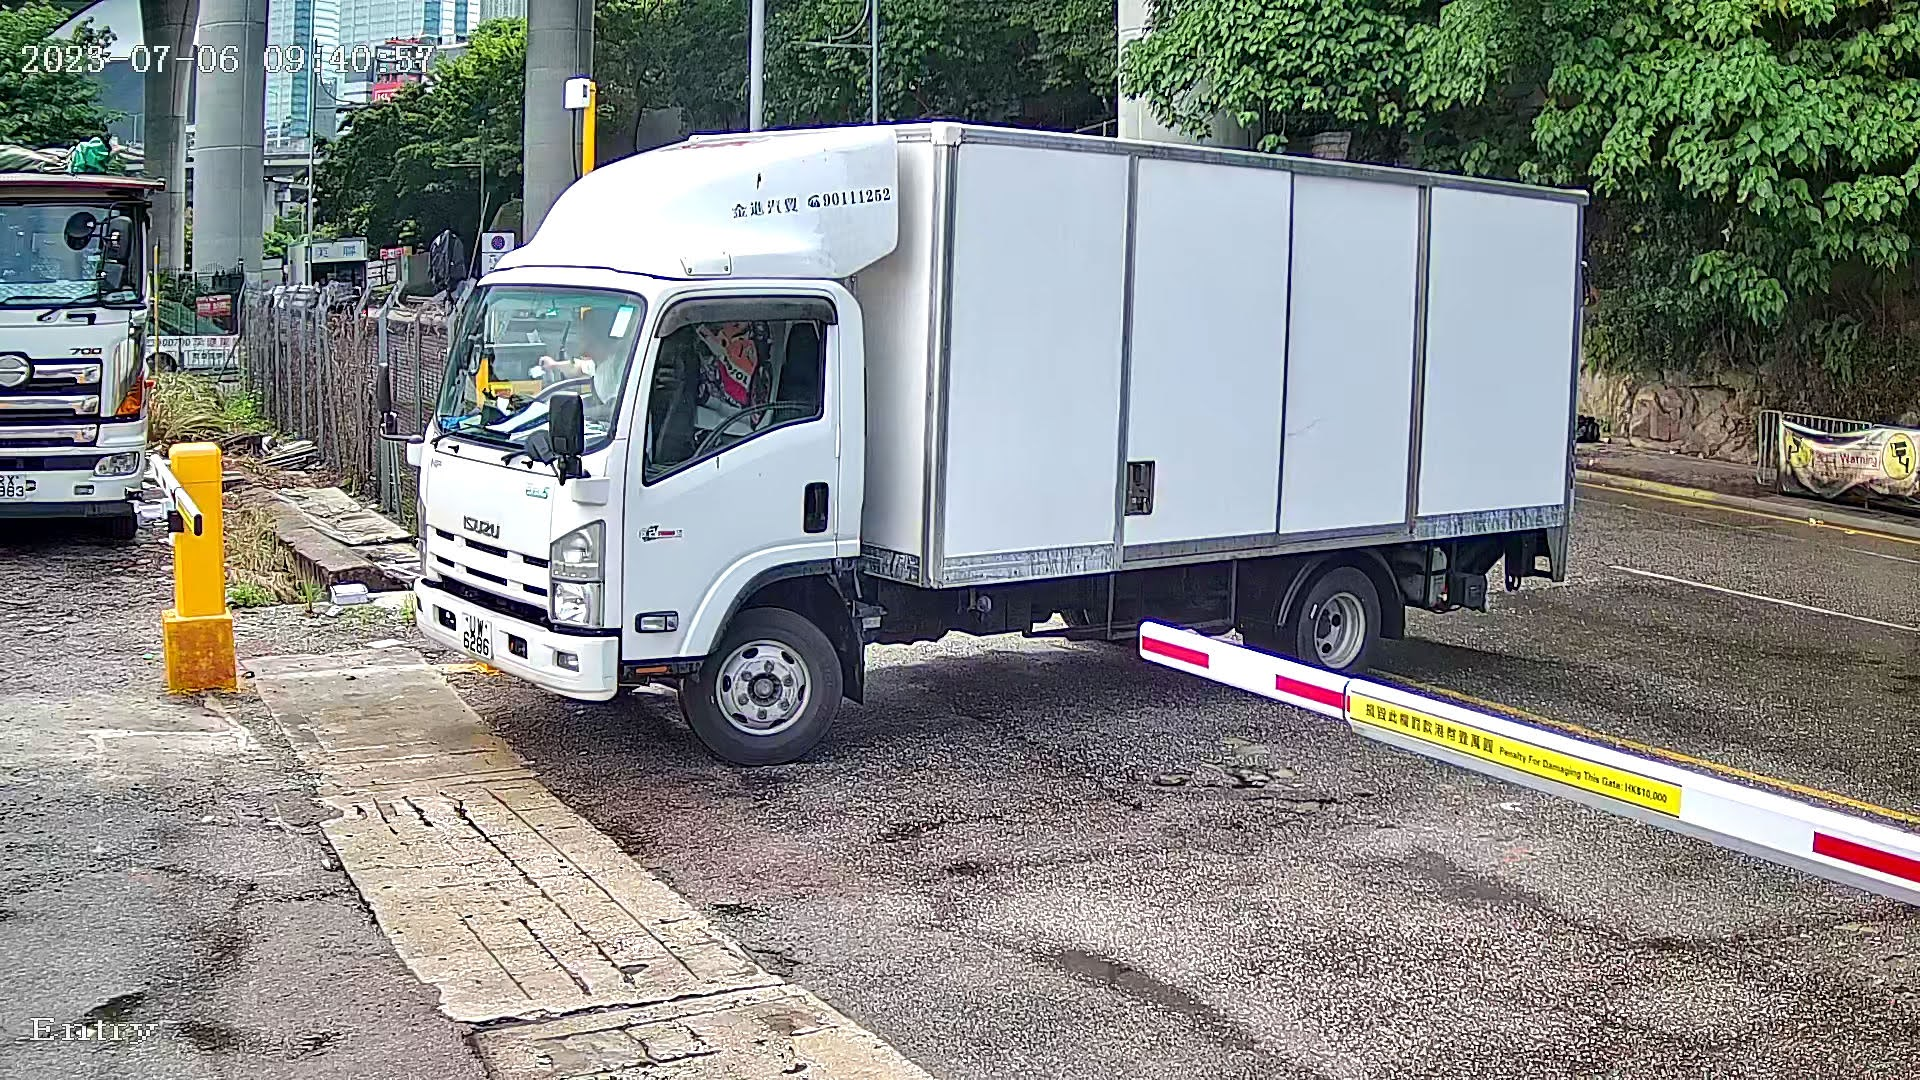truck: (407, 94, 1639, 771)
